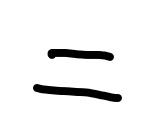eqv: (30, 45, 127, 105)
